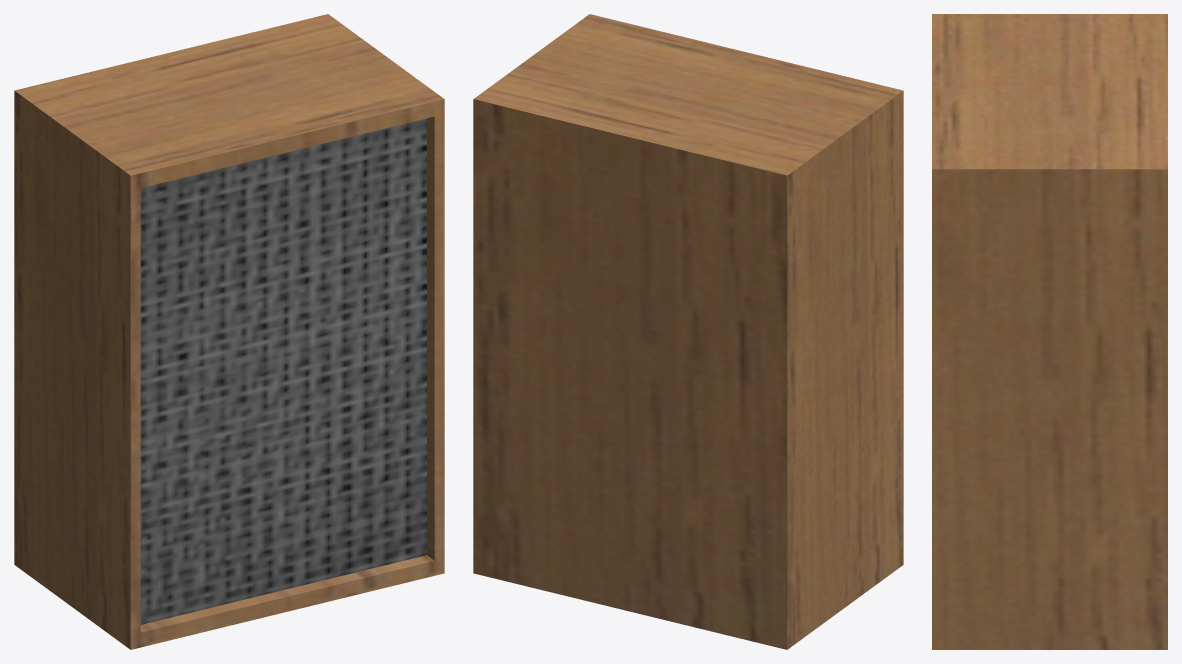
The model's file is speaker.obj.
The picture shows the model from 3 angles, left to right: view 1: azimuth 30°, elevation 25°; view 2: azimuth 150°, elevation 25°; view 3: azimuth 270°, elevation 25°; orthographic projection.
Visible parts, largest first — view 1: speaker; view 2: speaker; view 3: speaker.
Part boxes in pixels (left/top/right/bottom): speaker: left=14, top=14, right=444, bottom=649; speaker: left=473, top=14, right=903, bottom=649; speaker: left=932, top=14, right=1167, bottom=649.
Size of the model in its own units: 31.24 by 45.12 by 20.06.
Materials: 1 (1 with a texture image).
